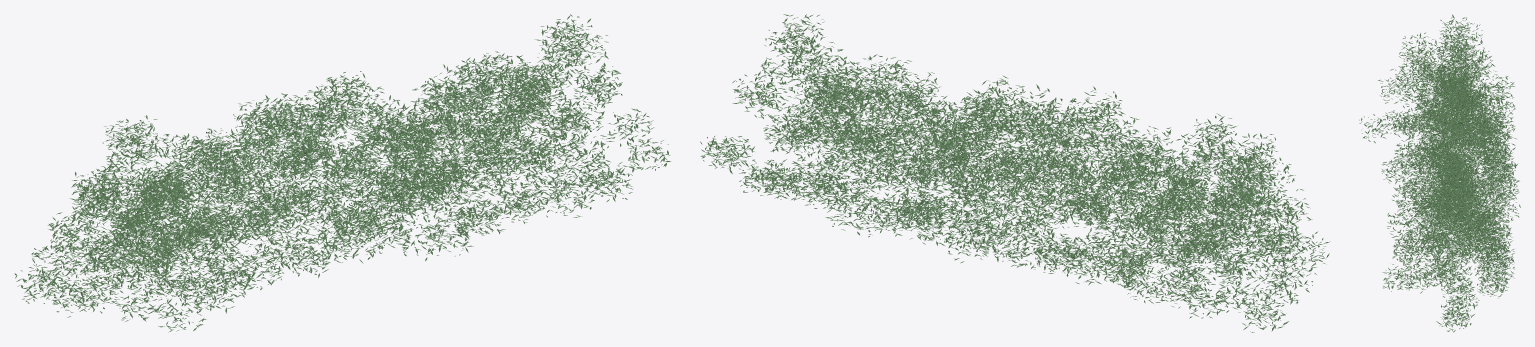
Rendered from xiyuan-vegetation-27-near.glb.
3 renders of one model, left to right at view 1: azimuth 30°, elevation 25°; view 2: azimuth 150°, elevation 25°; view 3: azimuth 270°, elevation 25°, orthographic. The views are drawn at different scales.
Parts seen in each view (by area): view 1: vegetation cedar leaves.002; view 2: vegetation cedar leaves.002; view 3: vegetation cedar leaves.002.
Boxes of the visible parts, x1,y1,x2,y2 form: vegetation cedar leaves.002: [14, 14, 670, 332]; vegetation cedar leaves.002: [700, 14, 1330, 332]; vegetation cedar leaves.002: [1359, 14, 1520, 332].
Size of the model in its own units: 38.62 by 11.15 by 11.71.
